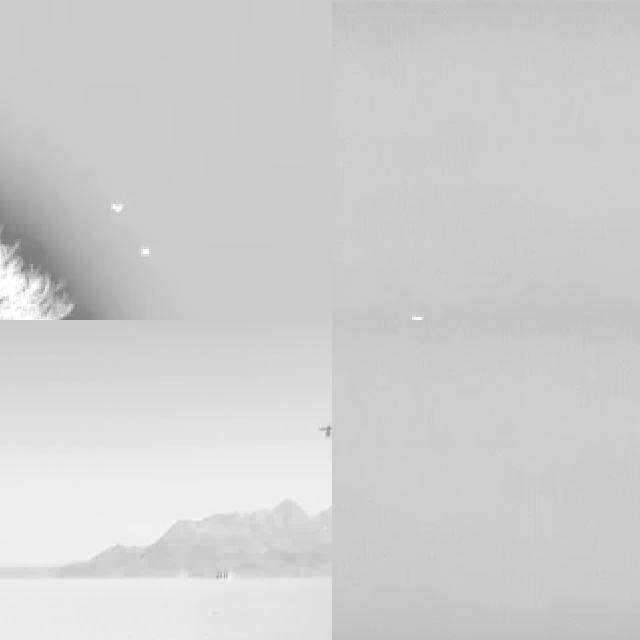0: (105, 194, 133, 224), (139, 244, 161, 266)
1: (405, 311, 435, 320)
drone: (315, 415, 332, 445)
